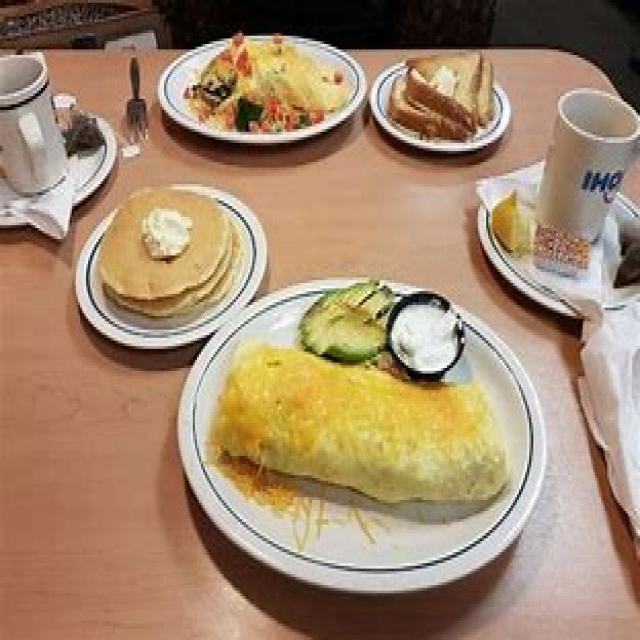French Toast: (382, 39, 496, 140)
Omelette: (215, 332, 511, 514), (180, 33, 347, 132)
Pancakes: (92, 178, 238, 322)
